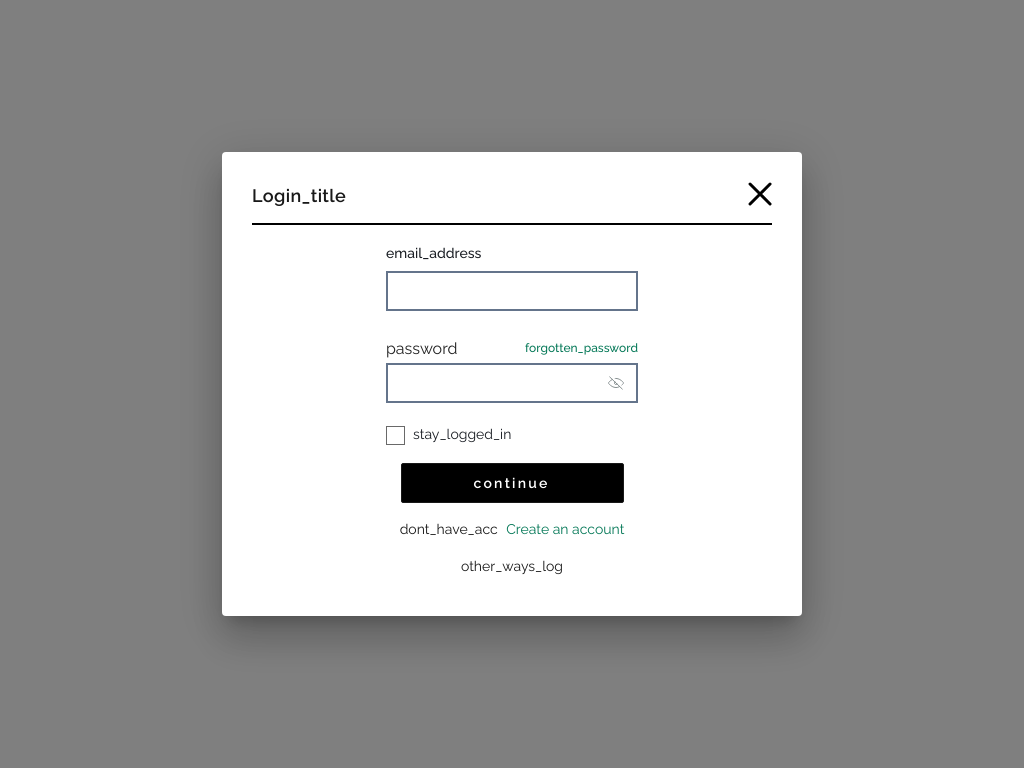
Test: LoginModal › AccountTypeModal › opens when Create an account is clicked
Click the button "Create an account".
click(565, 529)  # box left=506, top=521, right=624, bottom=537
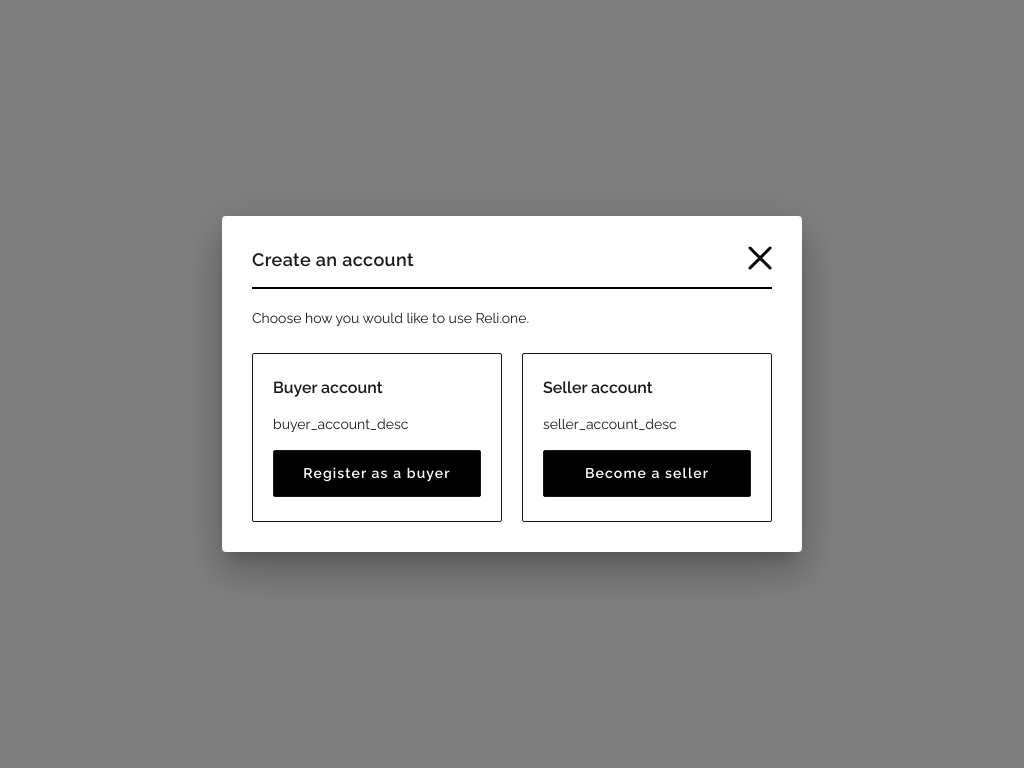
Result: the text "Choose how you would like to use Reli.one." is shown at left=252, top=310, right=529, bottom=326
Result: the heading "Buyer account" is shown at left=273, top=378, right=383, bottom=397
Result: the heading "Seller account" is shown at left=543, top=378, right=652, bottom=397
